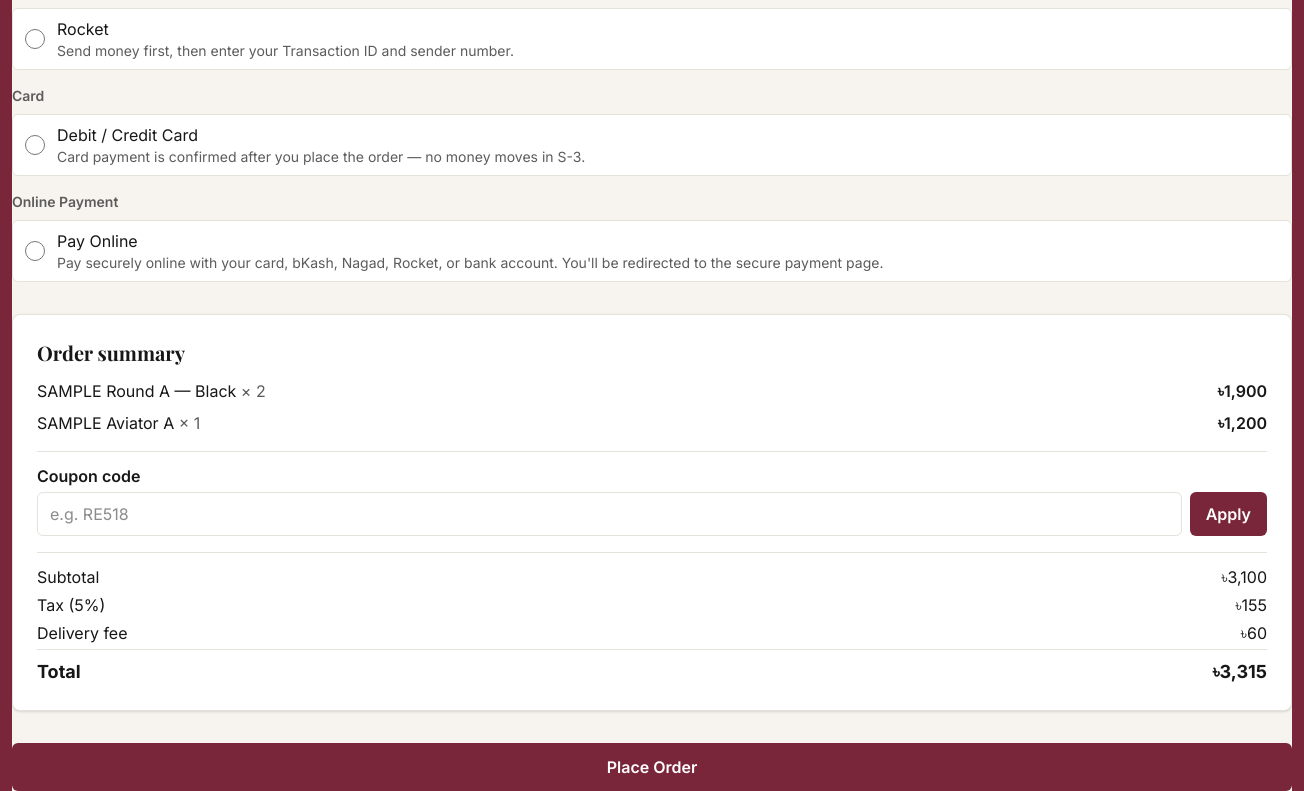
Scenario: CheckoutForm › an invalid coupon shows the server's plain-words error and keeps undiscounted totals
(page scrolled)
Type "WRONG" into the field labelled "Coupon code" at (609, 514), box [37, 492, 1182, 536]
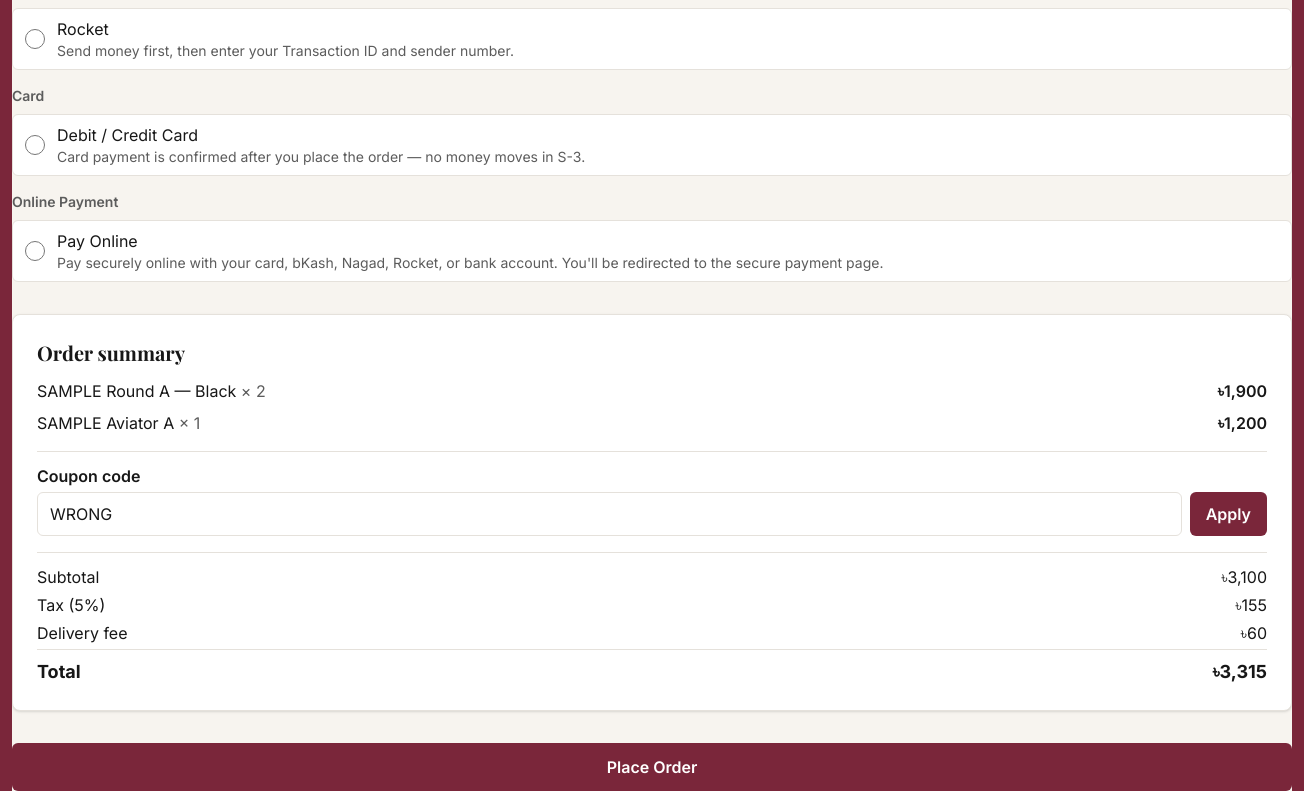
Click the button with aria-label "Apply coupon code" at (1228, 514), box [1190, 492, 1267, 536]
(page scrolled)
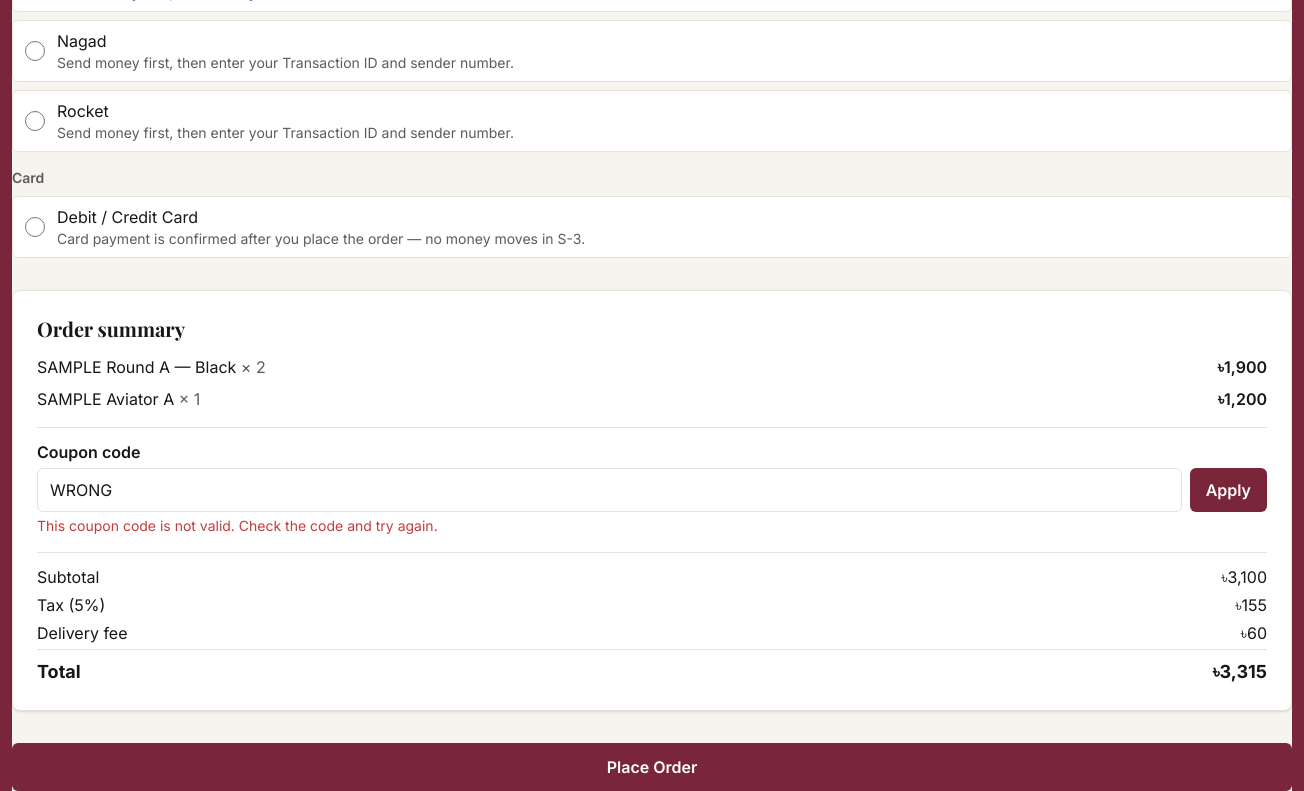
Expected: the text "৳3,315" is shown, [1213, 658, 1267, 686]
Now the text "This coupon code is not valid. Check the code and try again." is shown, box [37, 517, 438, 534]
